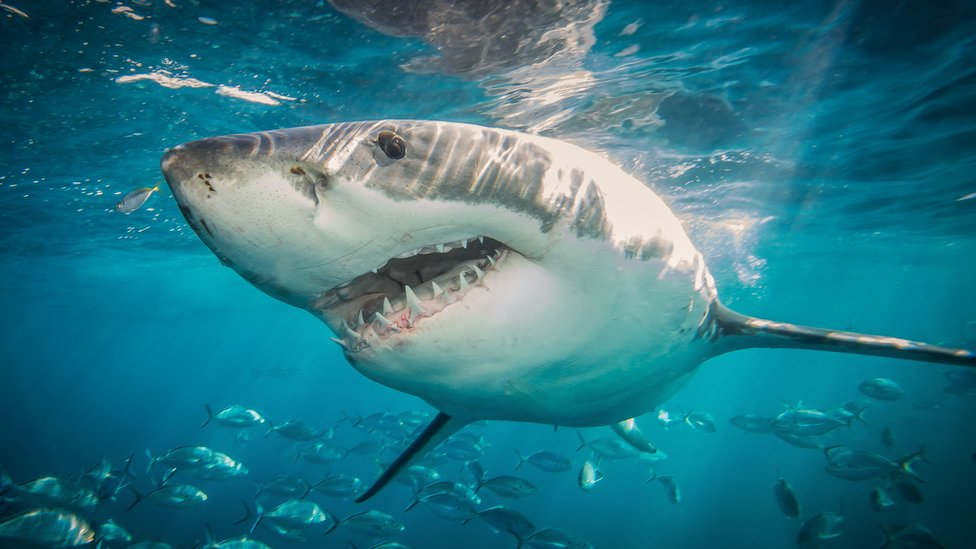shark: (143, 102, 903, 477)
